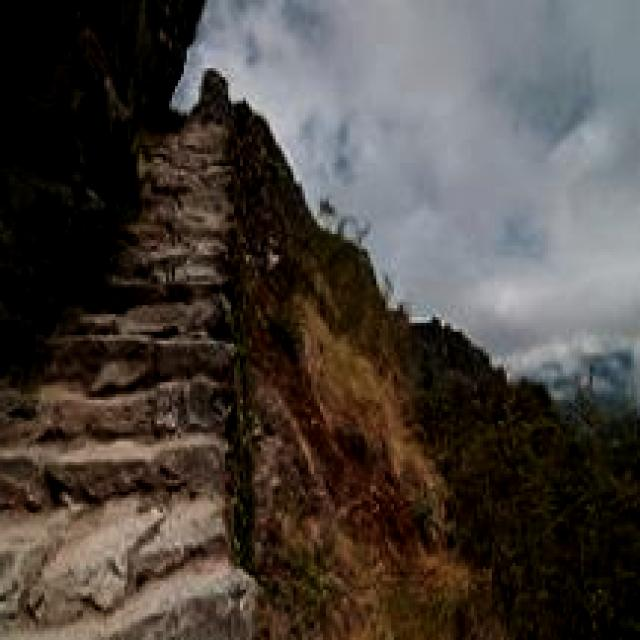upstair: (1, 220, 244, 640)
